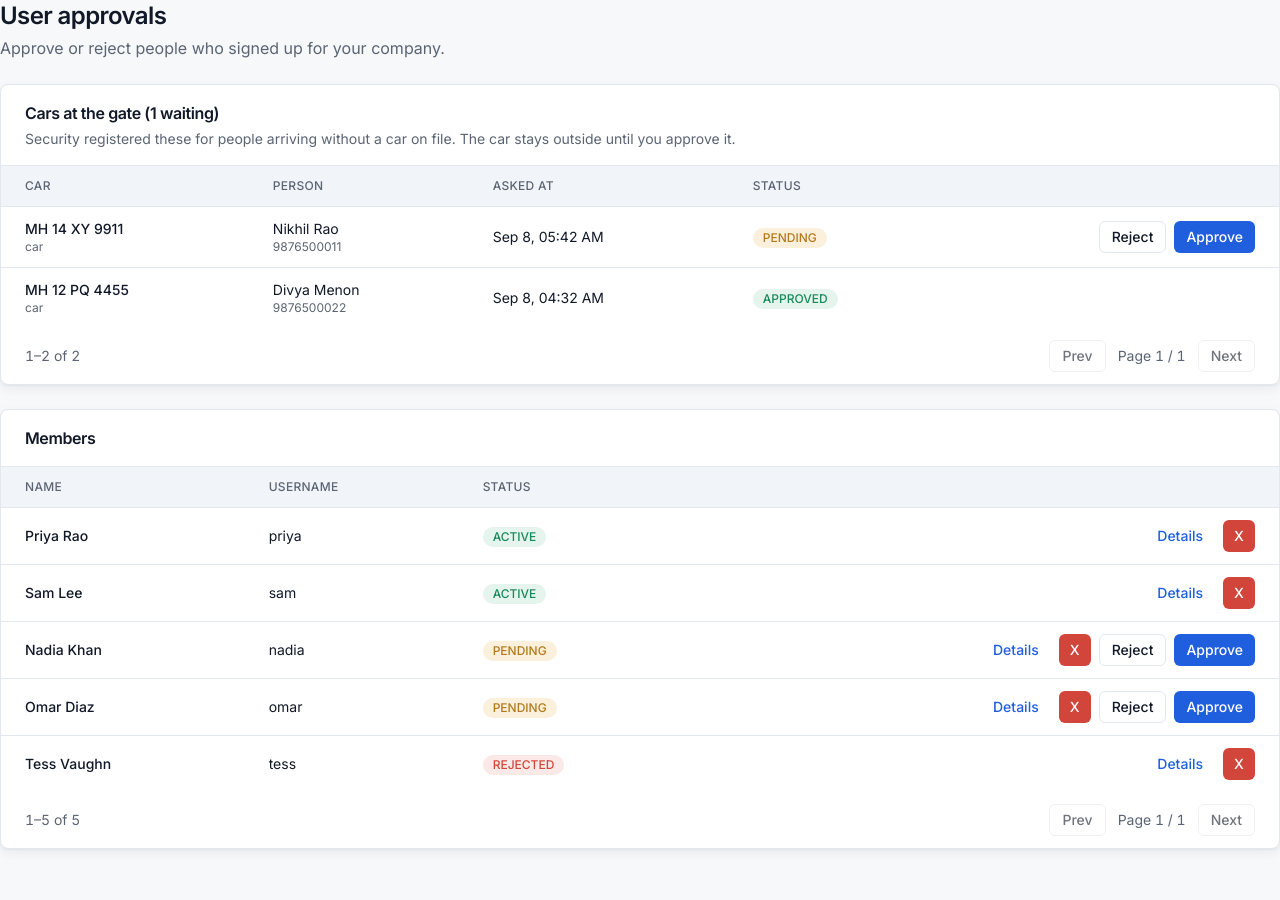
Approvals › approves a pending member
This screenshot has width=1280, height=900.
Click the 2nd button "Approve" at coordinates (1215, 650), box top-left (1174, 634), bottom-right (1255, 666)
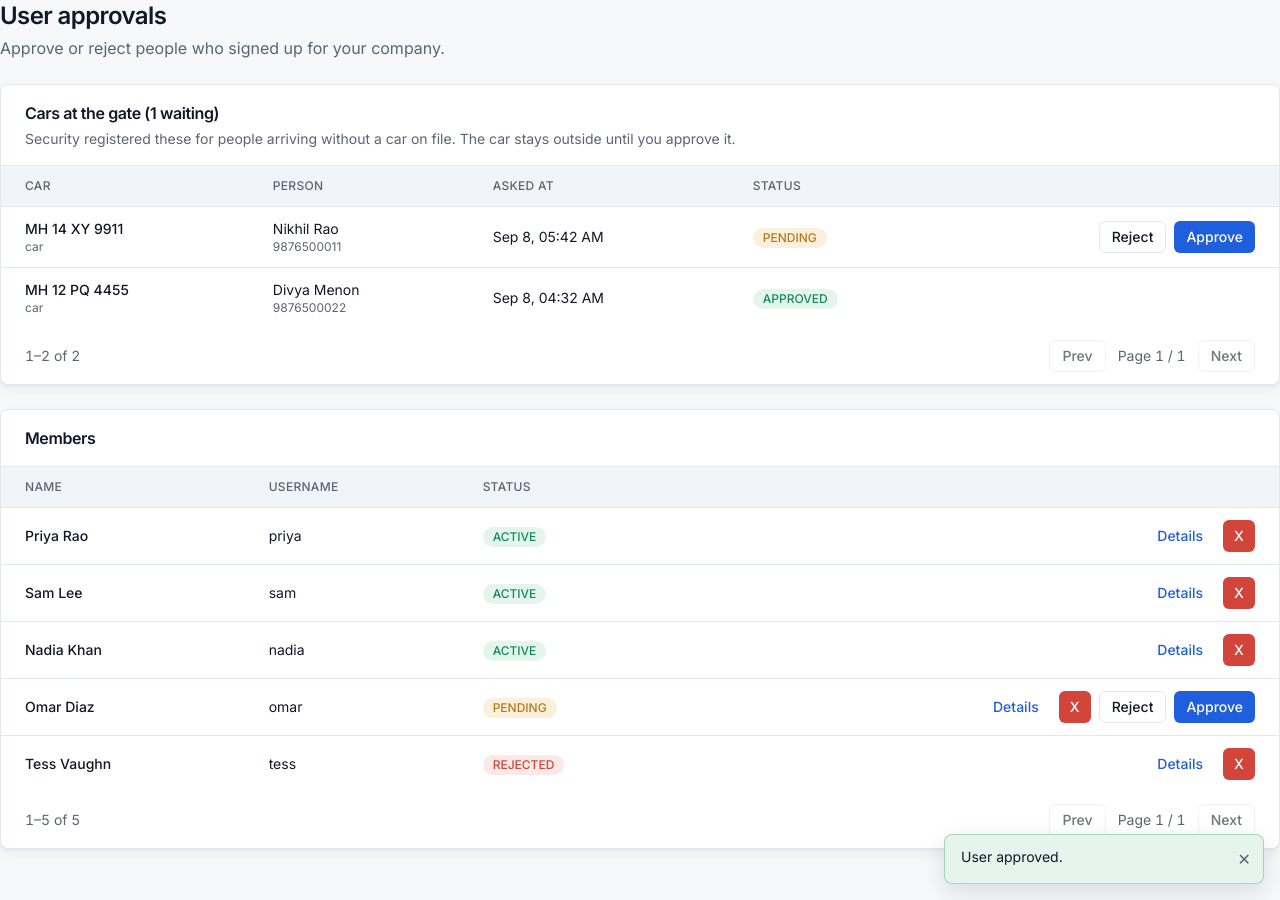
Result: the text "User approved." is shown at top-left (961, 848), bottom-right (1063, 865)
